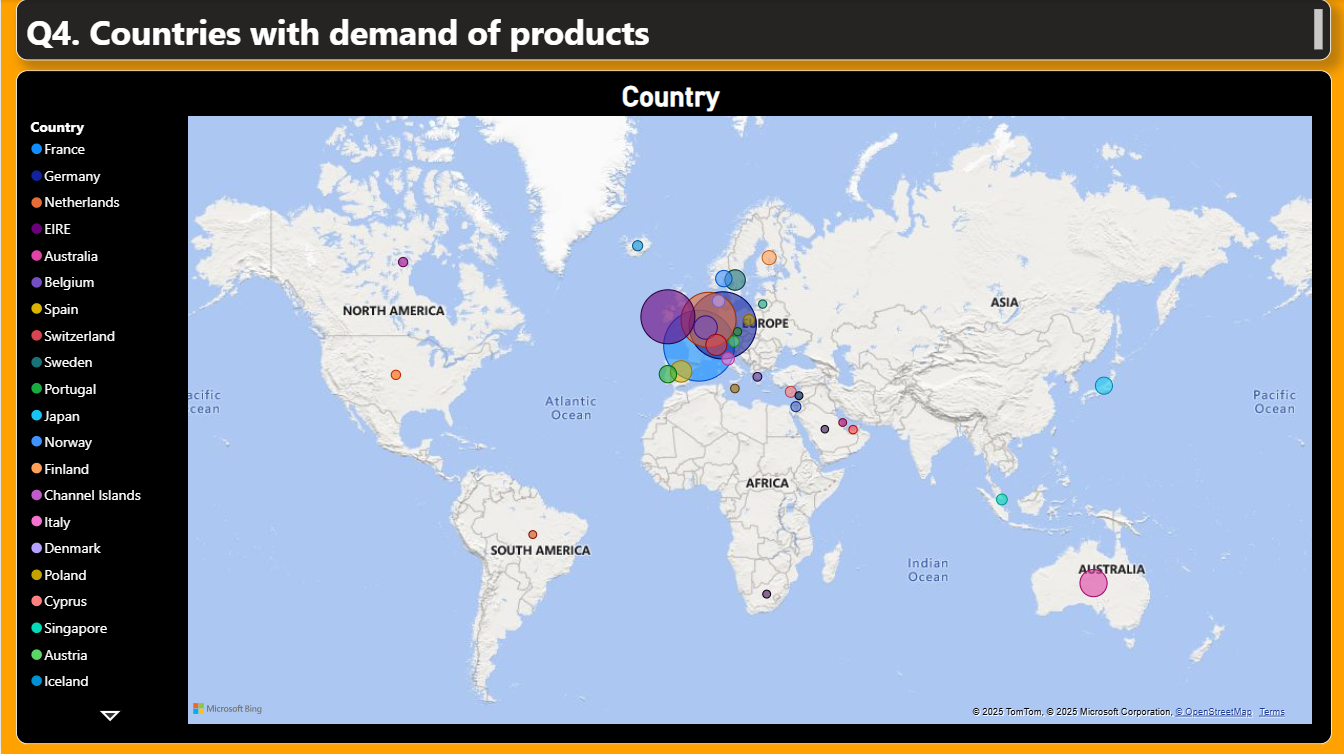

The dashboard page shown, as its layout file describes it:
{"tool":"powerbi","page":{"name":"Question 4","canvas":[1280,720],"ordinal":4},"visuals":[{"type":"textbox","box":[14.3,0,1252,58.3],"z":0},{"type":"map","title":"Country","fields":{"Category":["demand.Country"],"Size":["Sum(demand.prod_demand)"],"Series":["demand.Country"]},"box":[13.8,67.5,1252.5,641.2],"z":1000}]}

Visuals, with their boxes in screenshot pixels (x1, y1, x2, y2), scaled from the page's 1280x720 canvas onto the 1344x754 screenshot:
textbox: detection(15, 0, 1330, 61)
"Country" map: detection(14, 71, 1330, 742)
